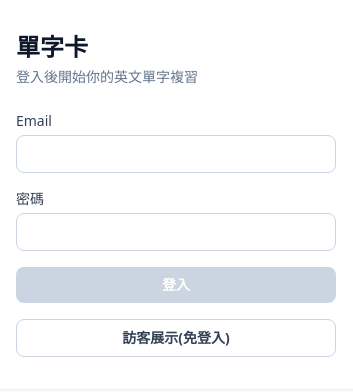
Test: 示範帳號登入失敗 → 回滾旗標與標記 + 訪客錯誤訊息 + 按鈕與輸入框恢復可用
The image size is (353, 392).
Click the button "訪客展示(免登入)" at [176, 338], box [16,319,336,357]
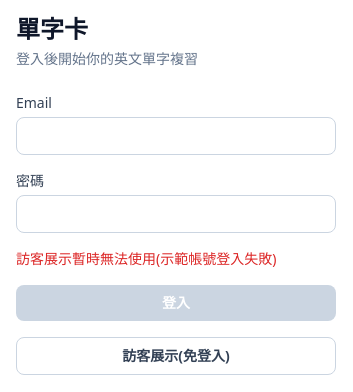
Expected: the button "訪客展示(免登入)" is enabled, [16,337,336,375]
Expected: the text "訪客展示暫時無法使用(示範帳號登入失敗)" is shown, [16,249,276,268]
